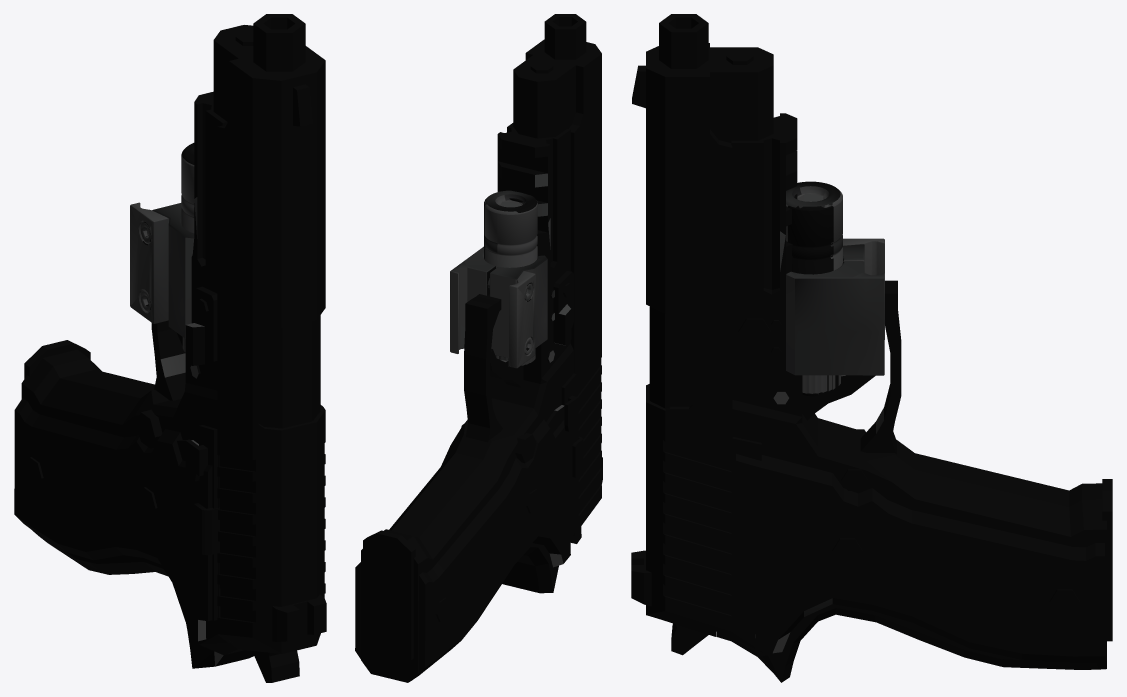
File: SIG_P226__Light_Pistol.fbx
3 views of the same model, side by side, from view 1: azimuth 30°, elevation 25°; view 2: azimuth 150°, elevation 25°; view 3: azimuth 270°, elevation 25° (orthographic). The views are drawn at different scales.
Visible parts, largest first — view 1: asset_SIG_P226.001; view 2: asset_SIG_P226.001; view 3: asset_SIG_P226.001.
Part boxes in pixels (x1=…): asset_SIG_P226.001: x1=14, y1=14, x2=326, y2=682; asset_SIG_P226.001: x1=355, y1=14, x2=602, y2=682; asset_SIG_P226.001: x1=631, y1=14, x2=1112, y2=682.
Size of the model in its own units: 0.0181 by 0.1212 by 0.0821.
